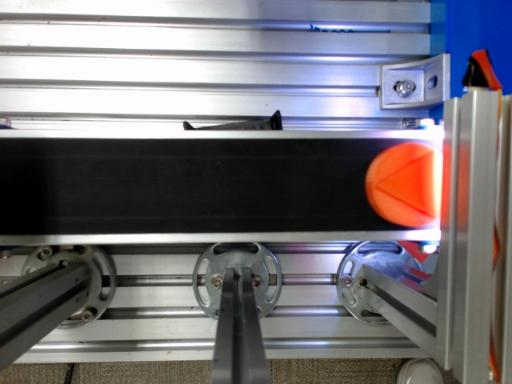Orange_Waper: (366, 143, 440, 226)
